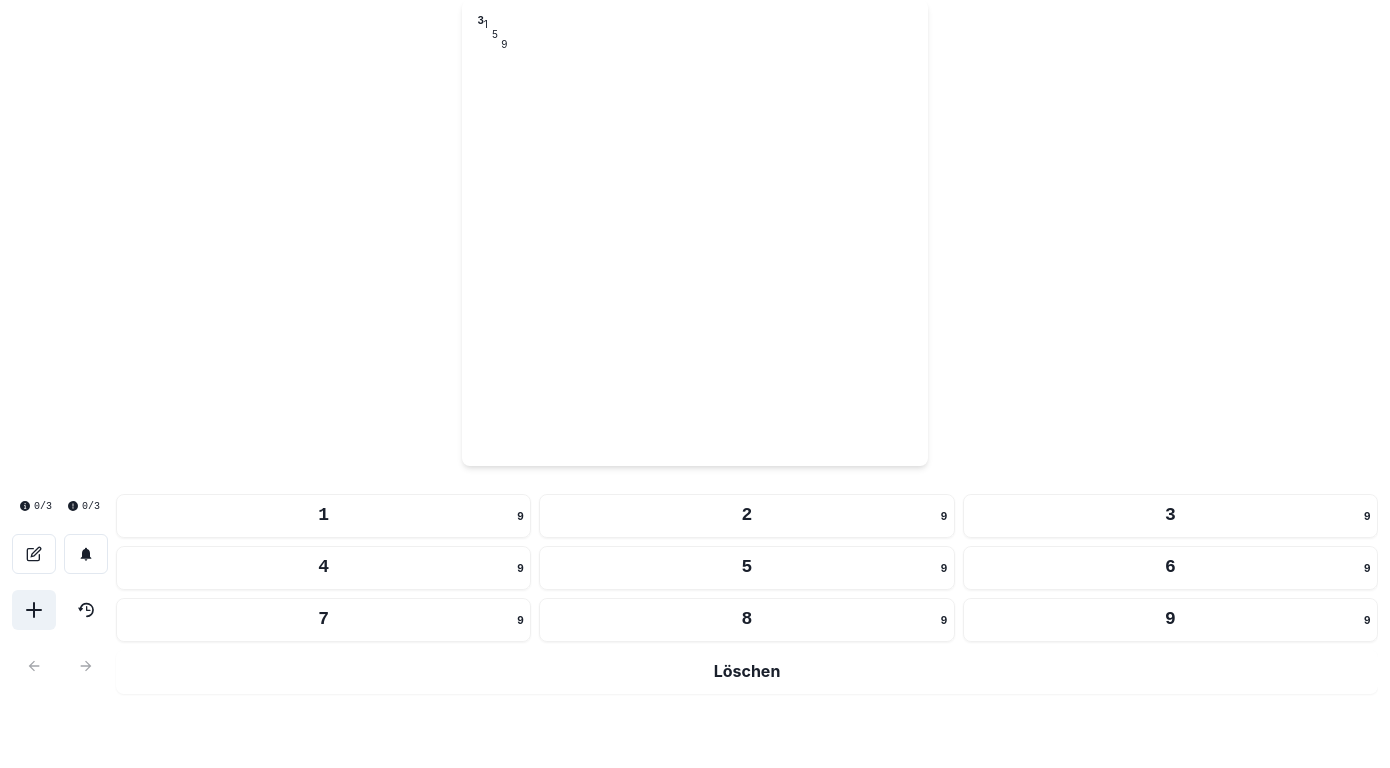
Hint-Overlay & Notiz-Koexistenz (#7) › Notizen werden visuell ausgeblendet, solange das Hint-Overlay für die selektierte Zelle aktiv ist; Daten bleiben unverändert
Press the mouse on the cell with test id "cell-0-0" at (495, 33), box left=470, top=8, right=520, bottom=58
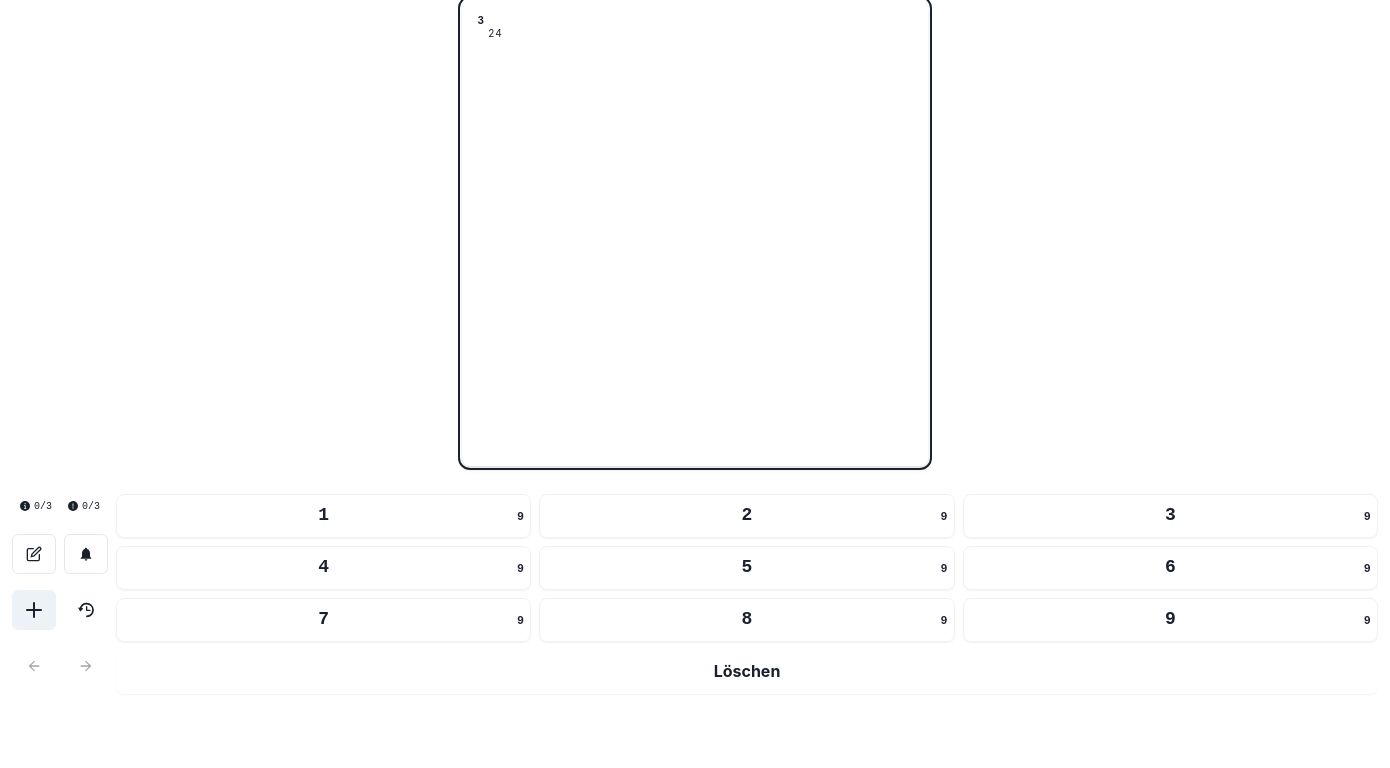
Expected: the element with test id "notes-0-0" is gone
